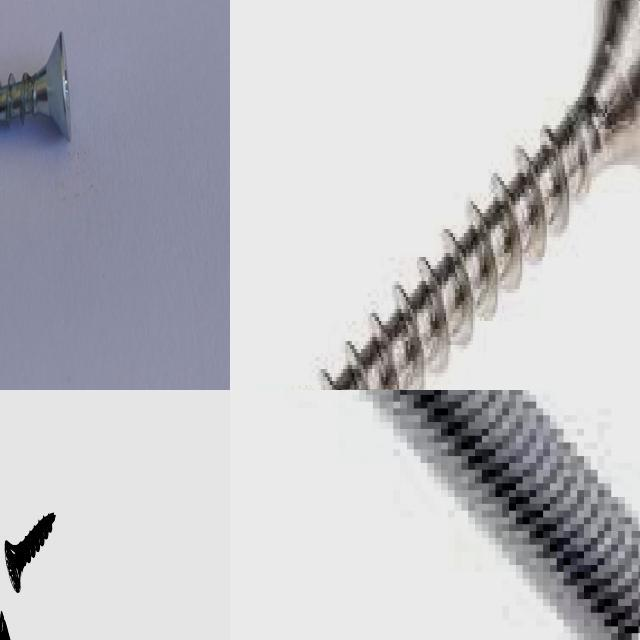Screw: (314, 0, 640, 390), (361, 390, 640, 640), (0, 31, 71, 140), (5, 512, 55, 592)
